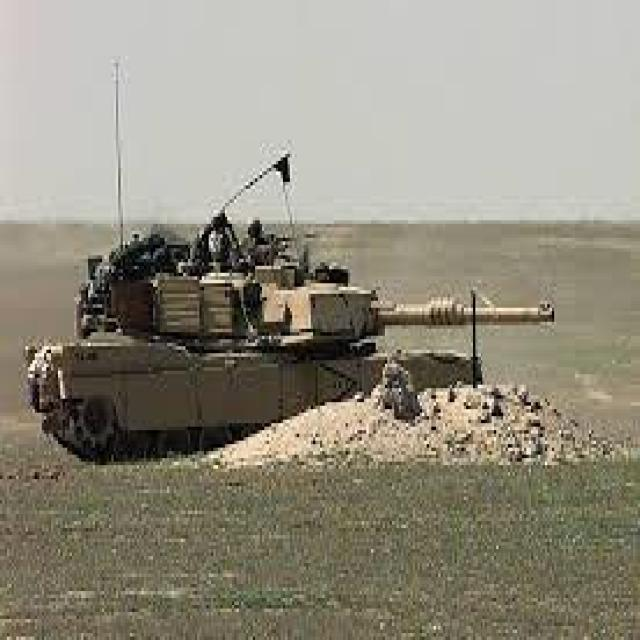Tanks: (28, 174, 540, 468)
